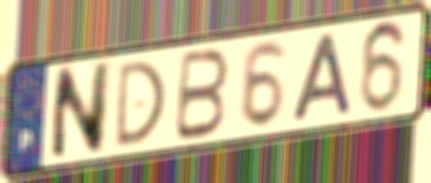6: (359, 16, 413, 120), (237, 37, 289, 132)
A: (289, 30, 355, 126)
B: (171, 46, 232, 145)
D: (112, 56, 168, 151)
N: (48, 57, 113, 165)
